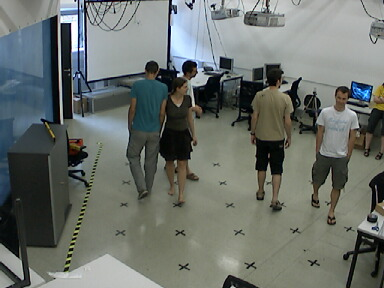person: (252, 65, 293, 213), (321, 79, 354, 213), (131, 60, 162, 199), (167, 77, 195, 204), (365, 77, 382, 157), (182, 58, 203, 80)
